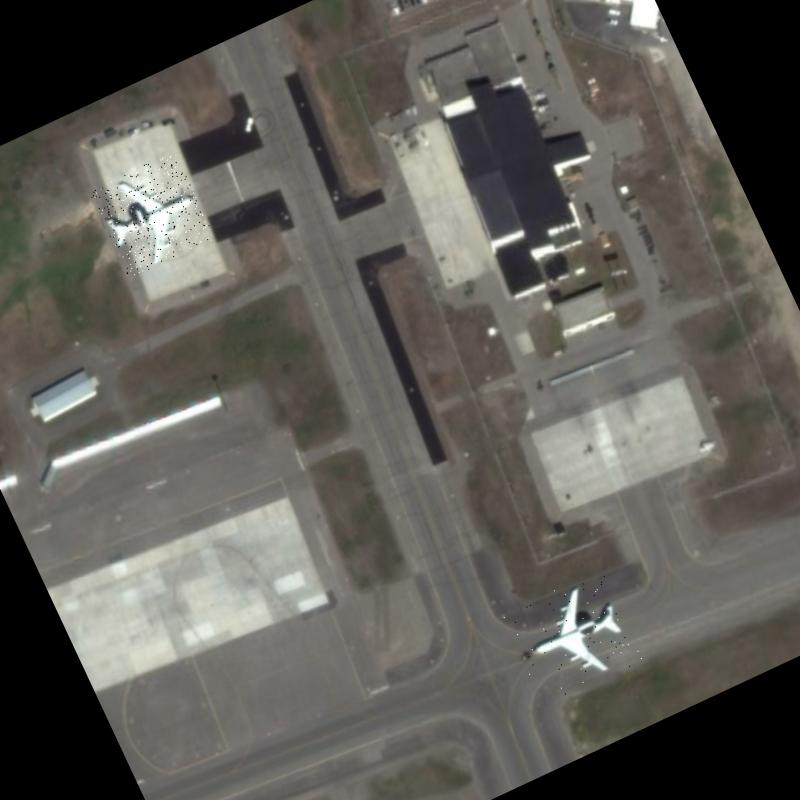A7: (500, 566, 644, 708), (88, 150, 215, 278)
